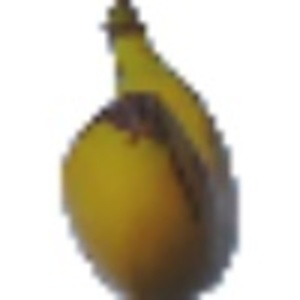banana: (58, 2, 242, 298)
